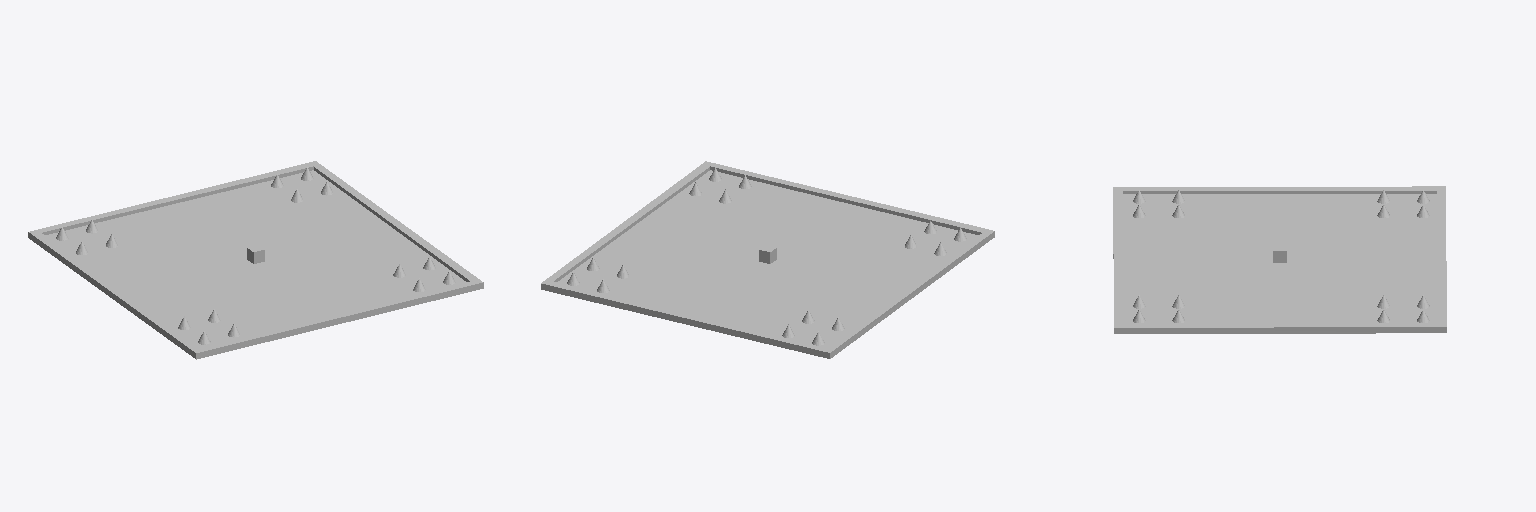
The model's file is Low Poly Ludo.obj.
3 renders of one model, left to right at view 1: azimuth 30°, elevation 25°; view 2: azimuth 150°, elevation 25°; view 3: azimuth 270°, elevation 25°, orthographic.
Parts seen in each view (by area): view 1: Low_Poly_Ludo1 pCube5; view 2: Low_Poly_Ludo1 pCube5; view 3: Low_Poly_Ludo1 pCube5.
Boxes of the visible parts, <box> form: Low_Poly_Ludo1 pCube5: <box>28,161,483,359</box>; Low_Poly_Ludo1 pCube5: <box>541,161,994,358</box>; Low_Poly_Ludo1 pCube5: <box>1113,186,1446,333</box>.
Bounding box in the file's own units: 24.68 × 1.2 × 24.68.